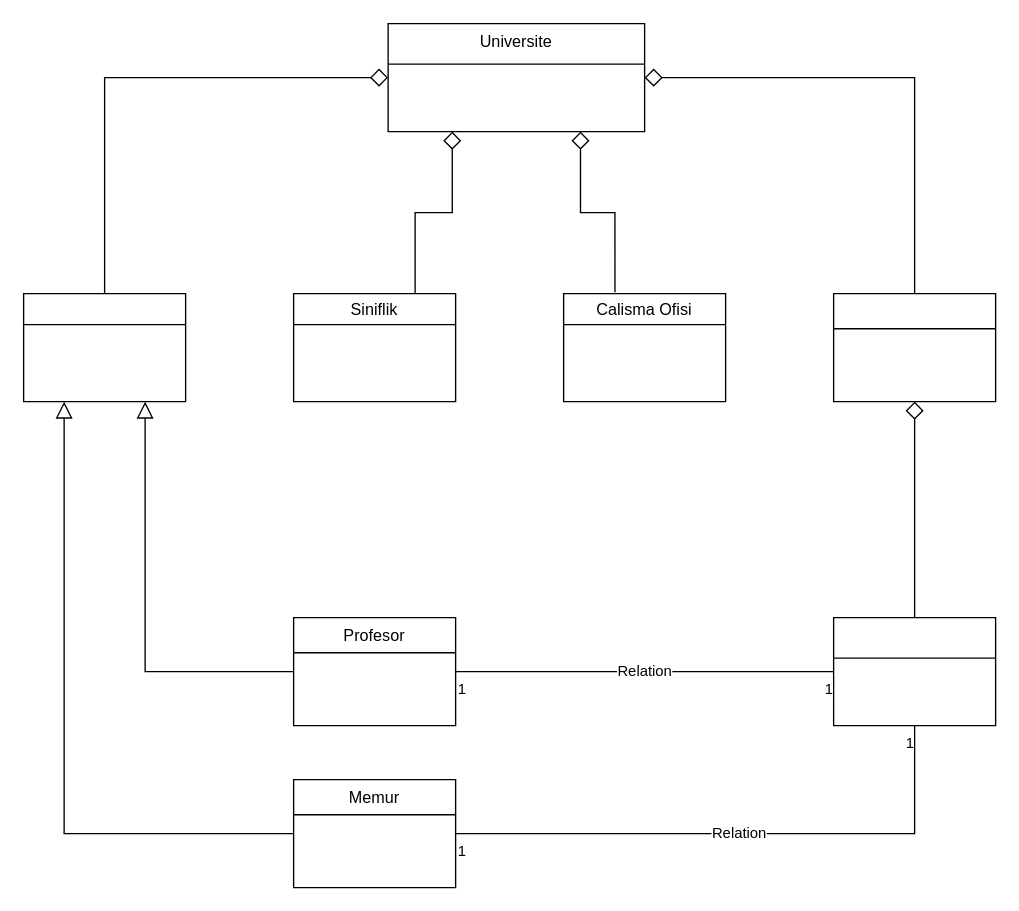
The diagram is 1019 pixels wide and 911 high, and some of its shapes have lost their labels. The box of each missing label's shape, as (x1, y1, x2, y2) in pixels:
Calisan: (22, 292, 186, 402)
Departman: (832, 292, 996, 402)
Ofis: (832, 616, 996, 726)
